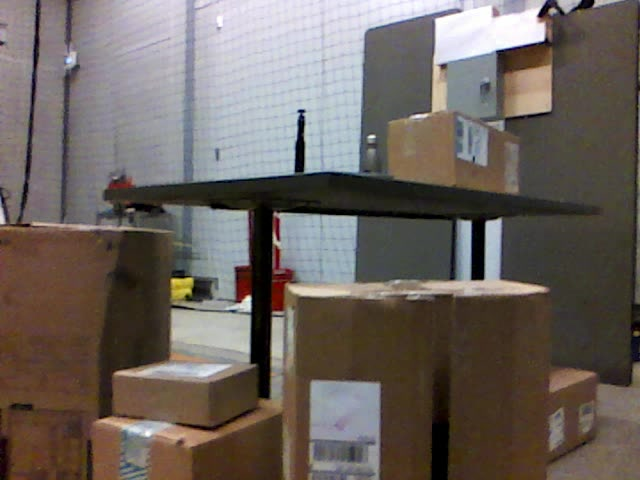box: (283, 283, 550, 480), (1, 221, 169, 480), (92, 412, 279, 480), (389, 114, 520, 194), (114, 361, 260, 429), (550, 366, 600, 470)
